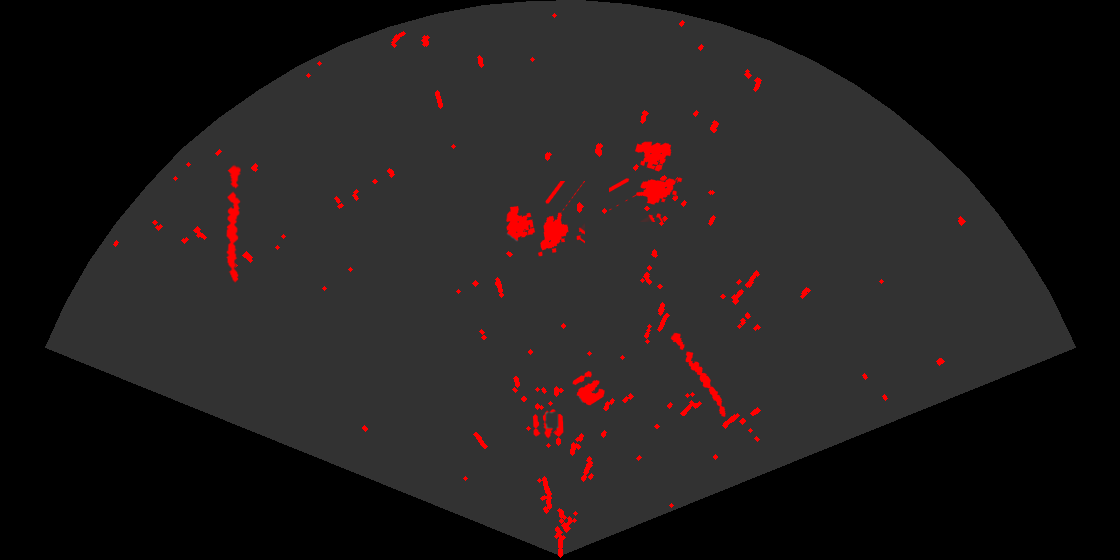ball: (571, 369, 606, 407), (531, 408, 565, 440)
cage: (504, 181, 585, 258), (609, 140, 684, 222)
chain: (669, 331, 727, 419), (225, 163, 242, 284)
